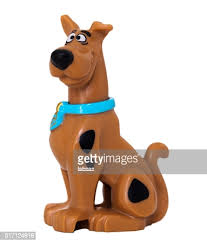scooby: (43, 14, 172, 233)
